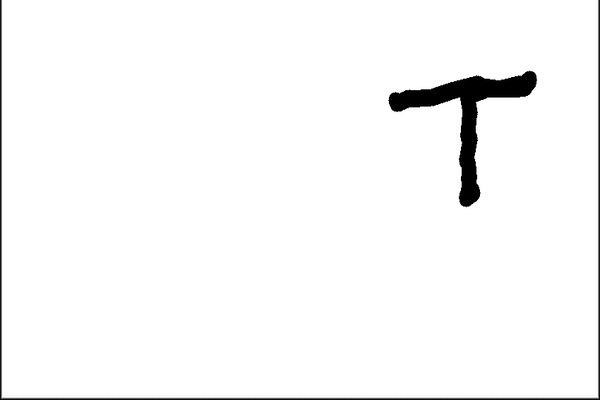T: (384, 57, 542, 211)
